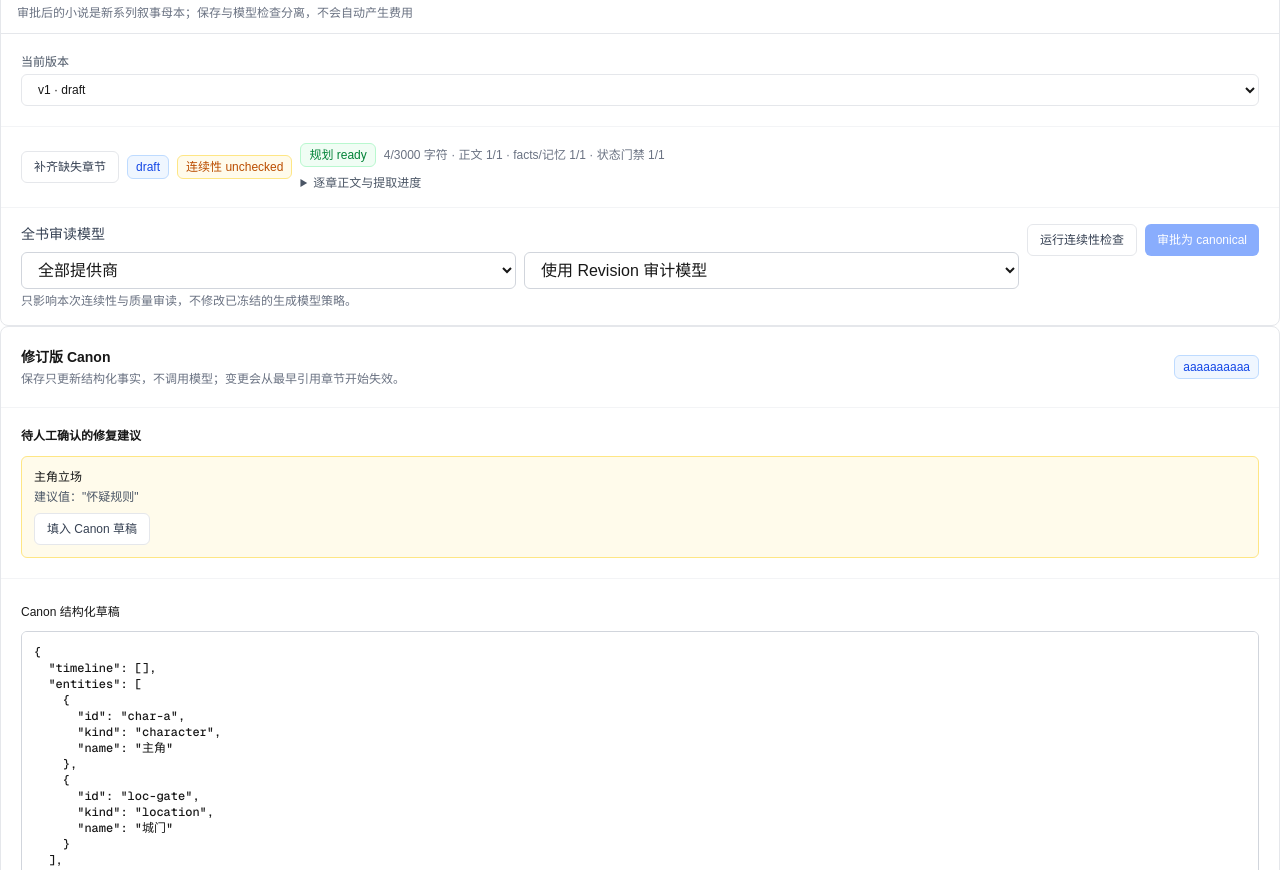
Scenario: StoryNovelWorkflowPanel › shows Canon repair controls and state quality evidence
The width and height of the screenshot is (1280, 870).
Check: the text "状态门禁 1/1" is shown, box 586,148 -> 665,162
Step 1. Click the button "填入 Canon 草稿" → point(92, 529), box 34,513 -> 150,545
(page scrolled)
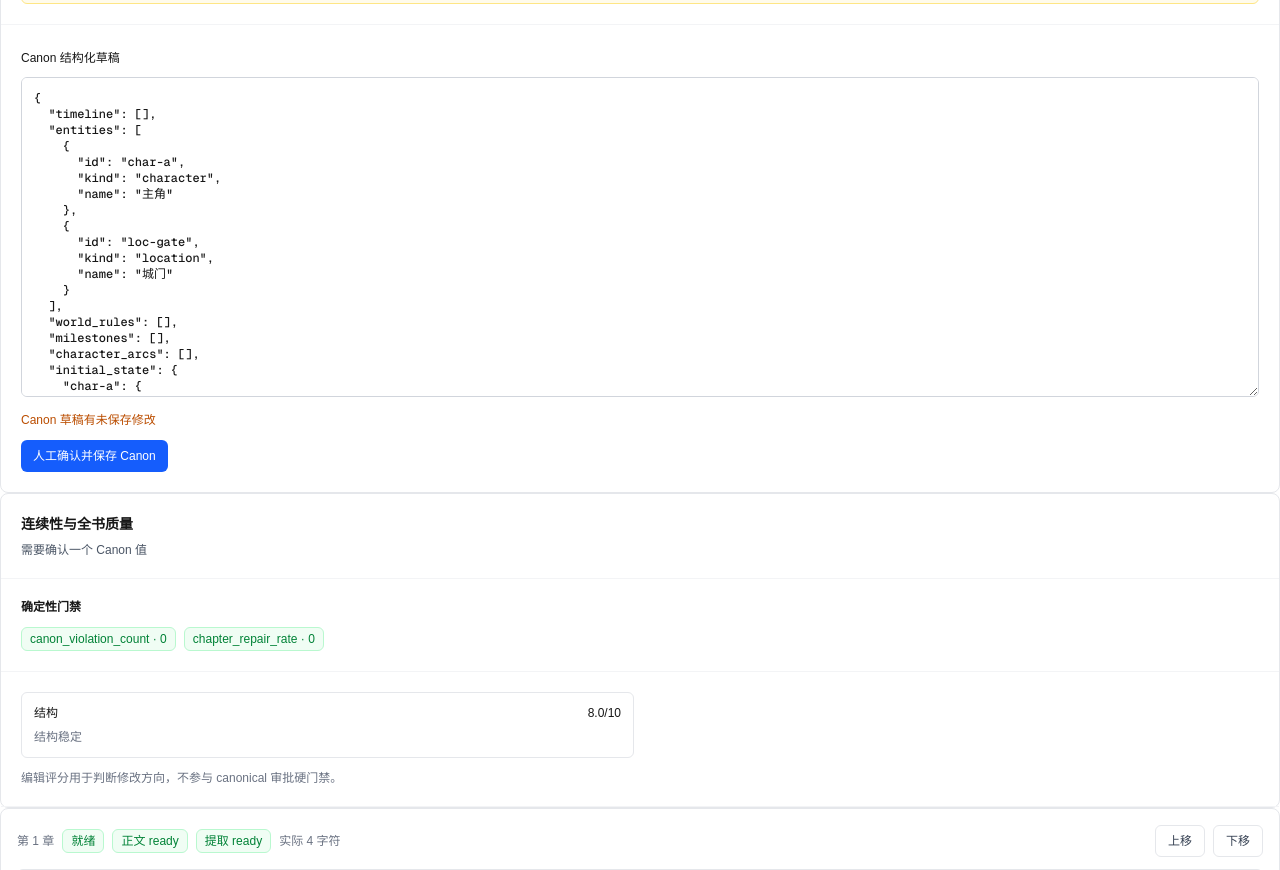
Check: the text "Canon 草稿有未保存修改" is shown, box 21,413 -> 156,427
